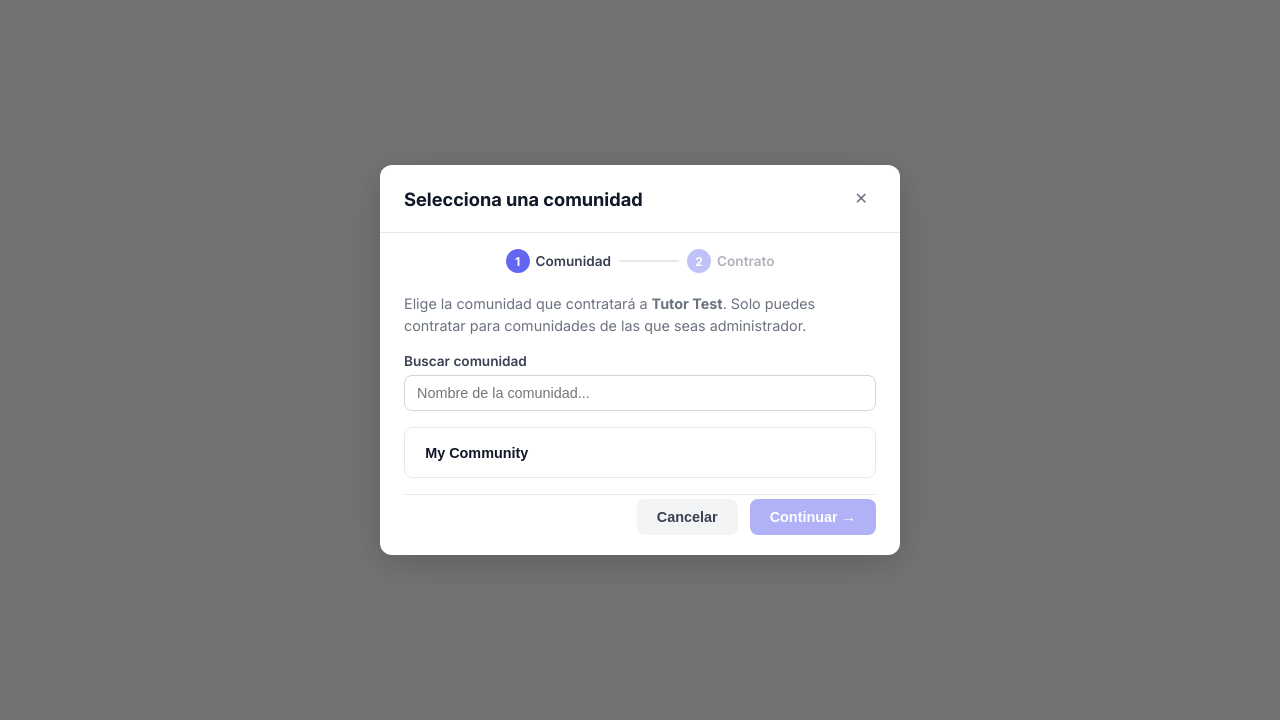
Test case: HireTutorModal › shows tutor tarifa info on step 2
expect the text "My Community" is shown: met, box [425,444,528,460]
Click the button "My Community": [477, 452] box [411,434,869,471]
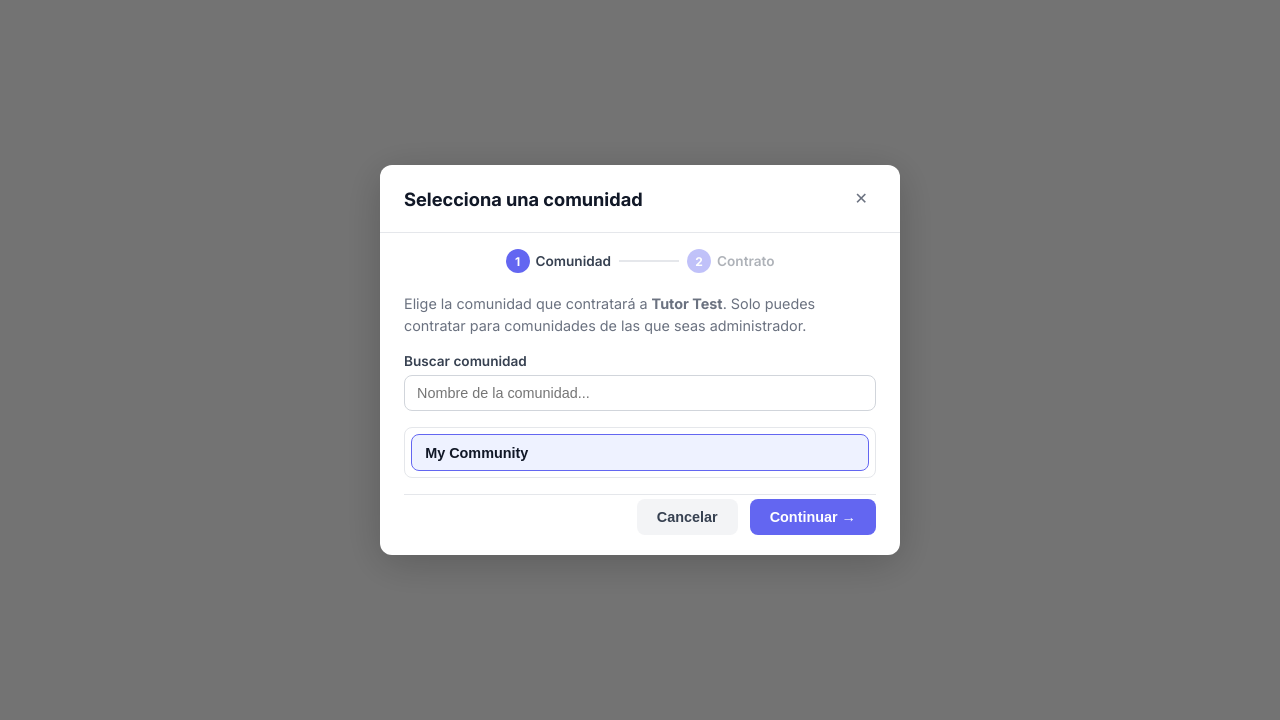
Click the button "Continuar →": [813, 517] box [750,500,876,535]
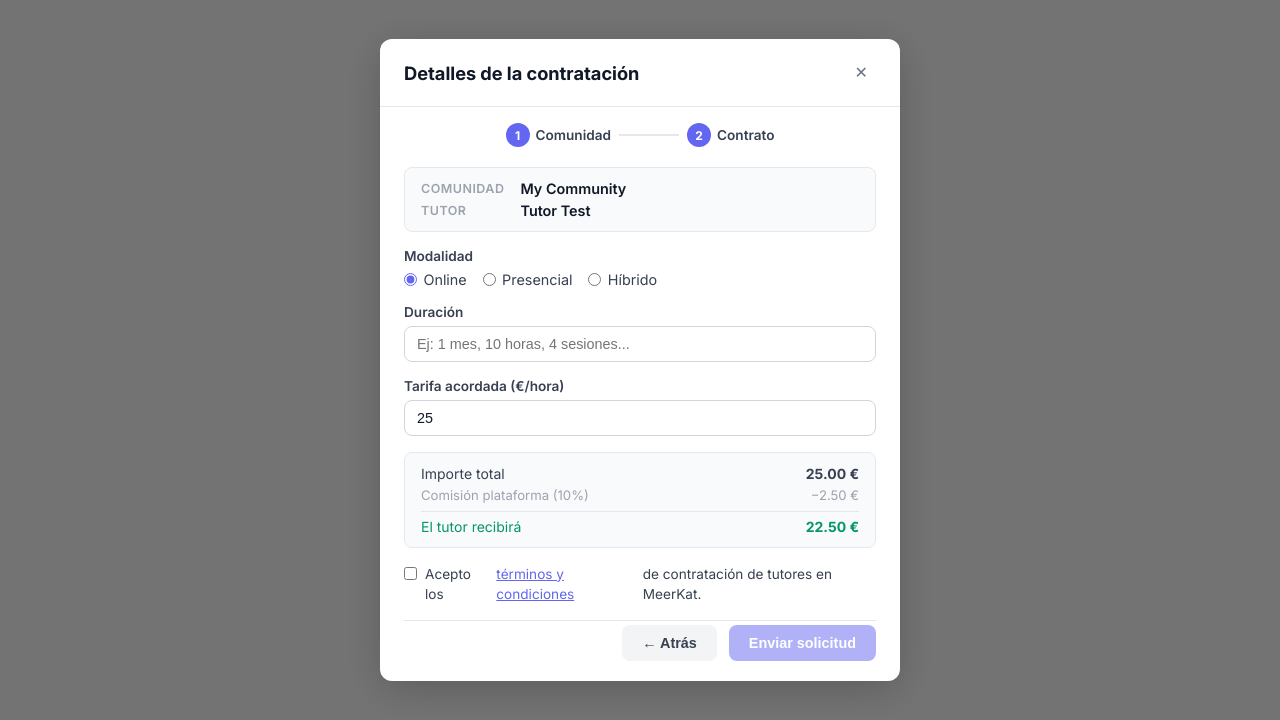
expect the text "25.00 €" is shown: met, box [806,464,859,482]
